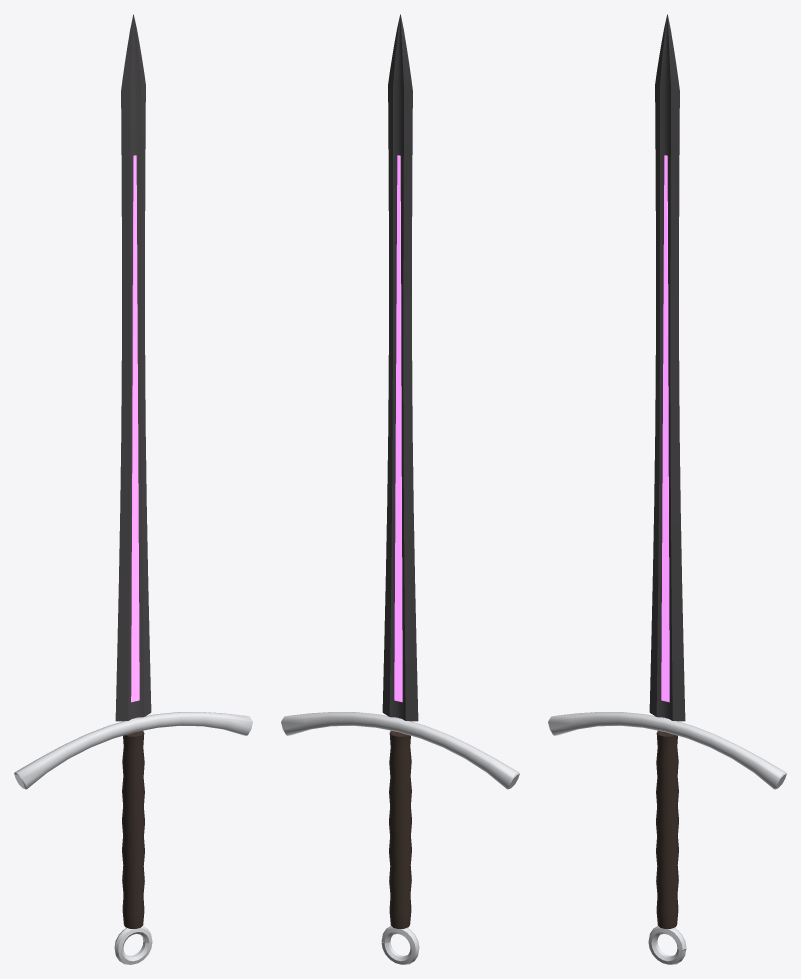
The model's file is nightfall_greatsword.glb.
3 renders of one model, left to right at view 1: azimuth 30°, elevation 25°; view 2: azimuth 150°, elevation 25°; view 3: azimuth 330°, elevation 25°, orthographic.
Parts seen in each view (by area): view 1: nightfall_greatsword; view 2: nightfall_greatsword; view 3: nightfall_greatsword.
Part boxes in pixels (x1,y1,x2,y2): nightfall_greatsword: (14,14,252,964); nightfall_greatsword: (281,14,519,964); nightfall_greatsword: (548,14,786,964).
Bounding box in the file's own units: 0.4313 × 1.68 × 0.0356.
